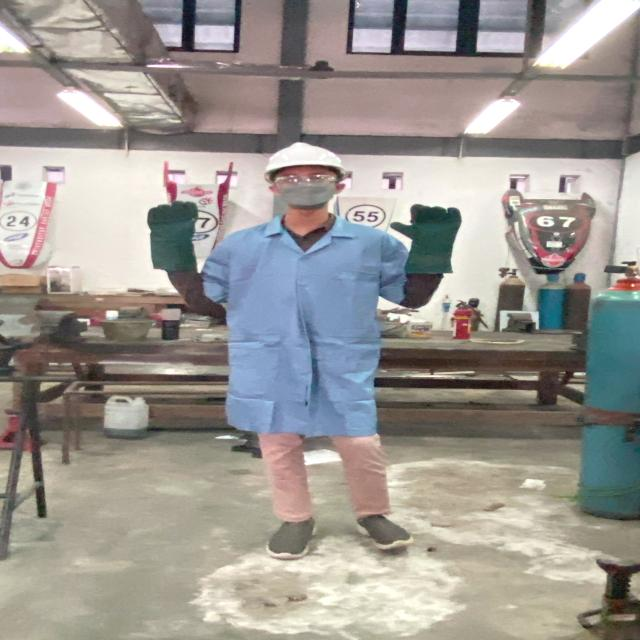face_mask: (267, 168, 344, 206)
glasses: (270, 172, 343, 188)
hand_glove: (388, 202, 467, 245), (134, 198, 209, 237)
head_helmet: (260, 138, 348, 173)
person: (124, 132, 485, 572)
shoes: (346, 506, 425, 559), (250, 512, 333, 560)
